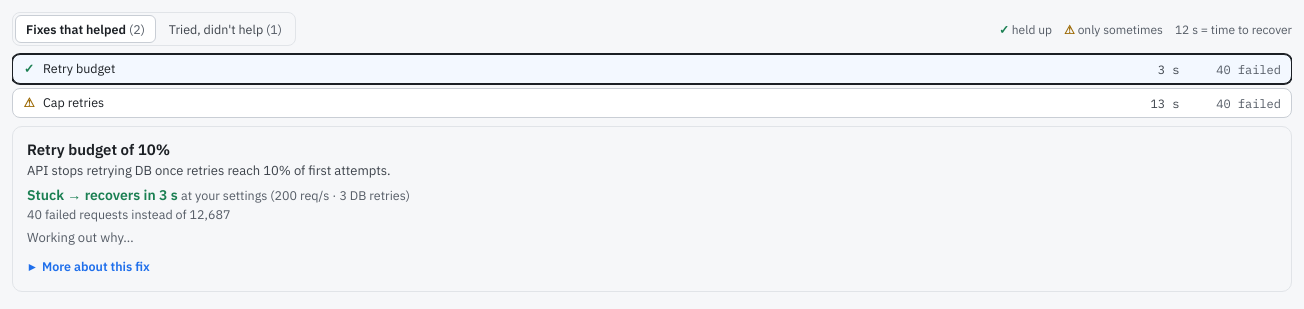
Test: FixTabs › names each tab with its outcome, marking fixes that help only sometimes
Expected: the tab "✓ Retry budget 3 s 40 failed" is shown, 12,54 -> 1292,84
Expected: the tab "⚠ Cap retries 13 s 40 failed" is shown, 12,88 -> 1292,118
Click the button "Tried, didn't help (1)" at [226, 29], box 158,15 -> 293,43
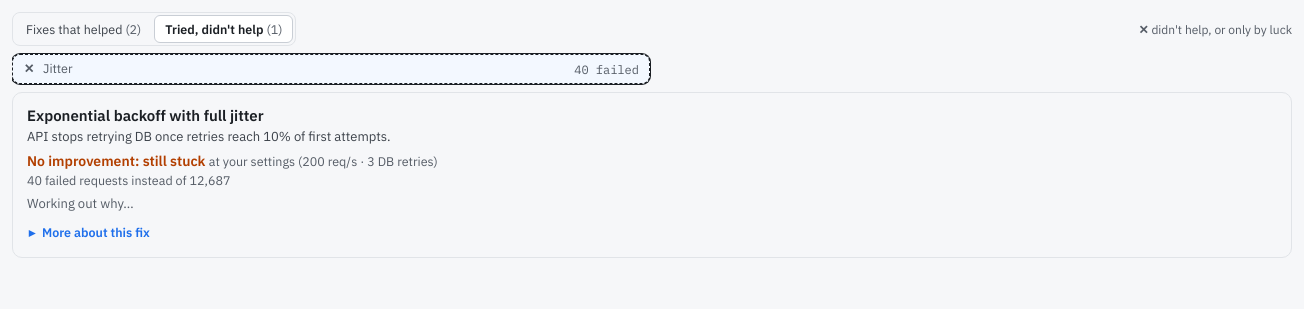
Expected: the tab reads "✕ Jitter 40 failed", 12,54 -> 650,84
